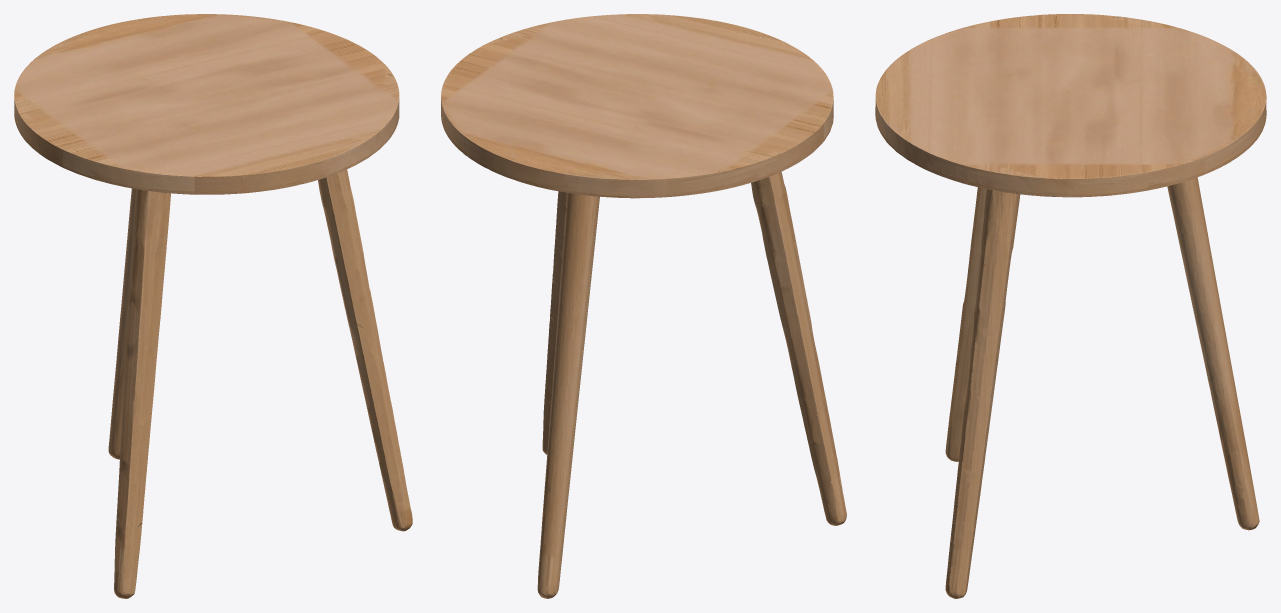
3 renders of one model, left to right at view 1: azimuth 30°, elevation 25°; view 2: azimuth 150°, elevation 25°; view 3: azimuth 270°, elevation 25°, orthographic.
Parts seen in each view (by area): view 1: Mesh_0; view 2: Mesh_0; view 3: Mesh_0.
Boxes of the visible parts, left/top/right/bottom form: Mesh_0: left=14, top=14, right=412, bottom=598; Mesh_0: left=441, top=14, right=846, bottom=598; Mesh_0: left=875, top=14, right=1266, bottom=598.
Bounding box in the file's own units: 0.45 × 0.55 × 0.45.
1 material, 1 textured.
